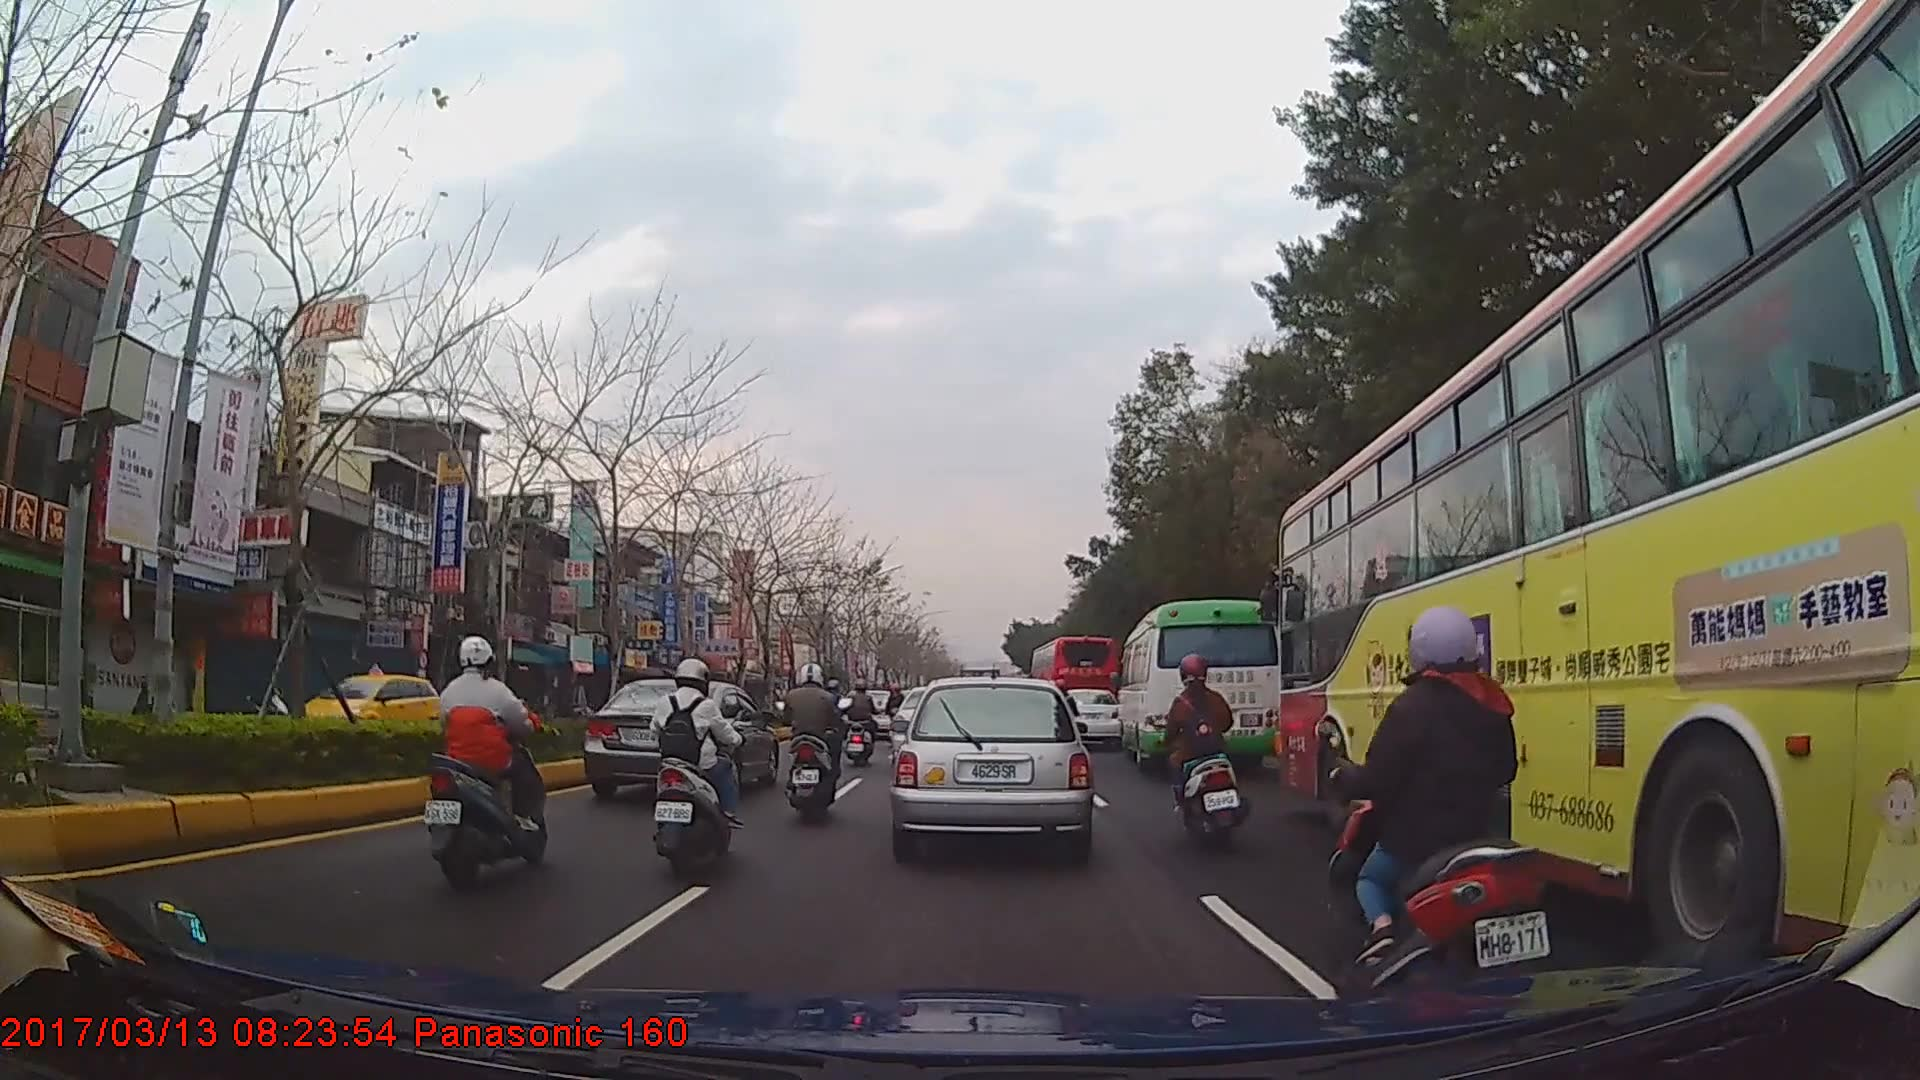rider: (1340, 601, 1552, 1003), (423, 634, 548, 892), (652, 657, 742, 879), (1158, 652, 1246, 846), (779, 665, 850, 821), (844, 679, 881, 768), (825, 678, 851, 731), (885, 681, 907, 739)
vehicle: (1271, 0, 1920, 1005), (890, 673, 1093, 857), (1115, 596, 1284, 772), (578, 677, 780, 800), (290, 659, 447, 750), (1029, 633, 1115, 741), (1050, 686, 1122, 745)
